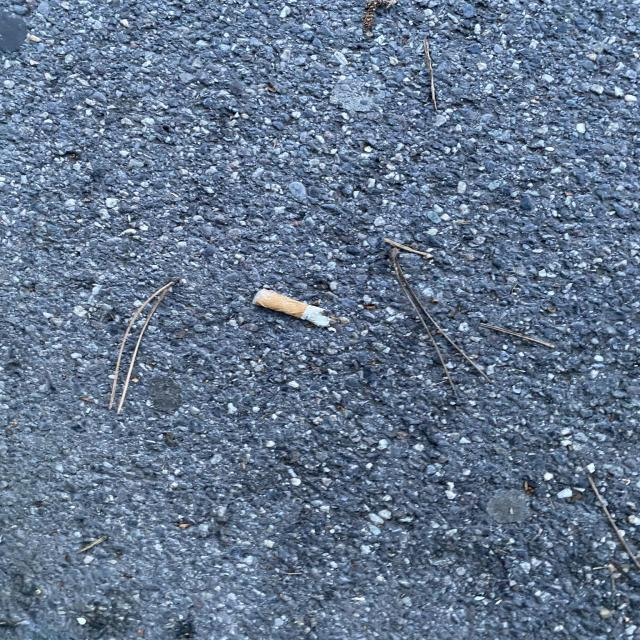other waste: (252, 288, 336, 333)
